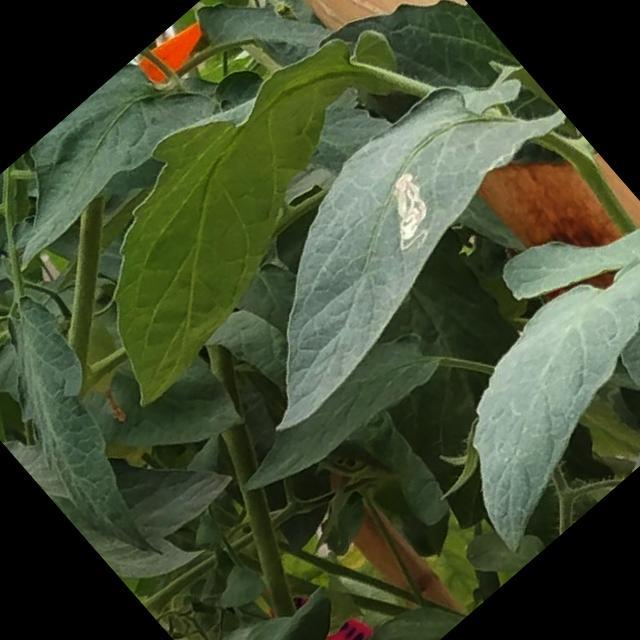Tomato target spot leaf: (173, 32, 606, 440)
